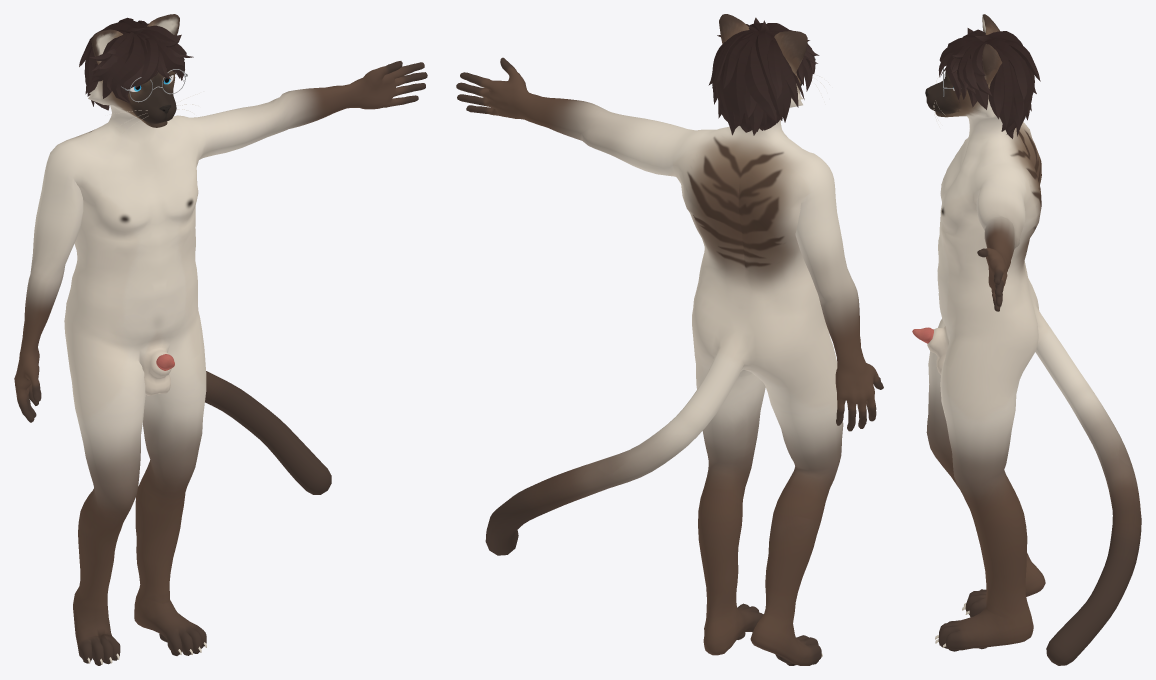
Rendered from YasuV6Ref_B.gltf.
3 views of the same model, side by side, from view 1: azimuth 30°, elevation 25°; view 2: azimuth 150°, elevation 25°; view 3: azimuth 270°, elevation 25° (orthographic). The views are drawn at different scales.
Visible parts, largest first — view 1: yasuref-b; view 2: yasuref-b; view 3: yasuref-b.
Boxes of the visible parts, bbox=[...] form: yasuref-b: bbox=[14, 14, 427, 665]; yasuref-b: bbox=[456, 14, 883, 665]; yasuref-b: bbox=[912, 14, 1141, 665].
Bounding box in the file's own units: 0.965 × 1.4 × 0.4843.
Materials: 3 (2 with a texture image).
